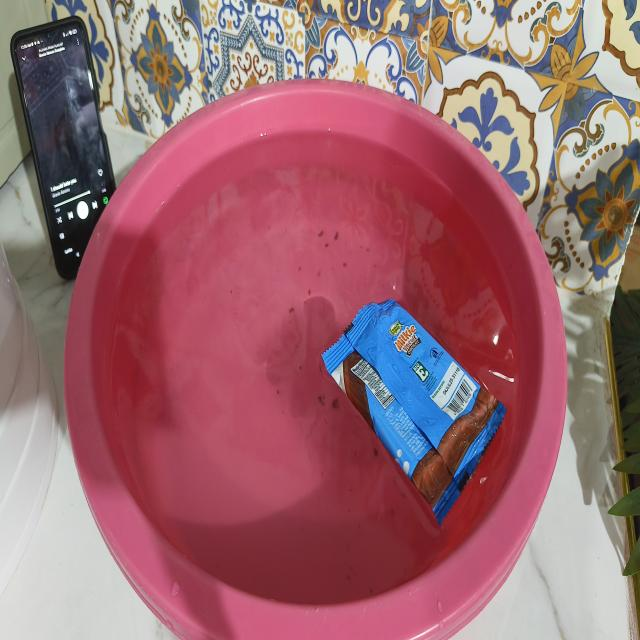Plastic Wrapper: (322, 300, 506, 524)
